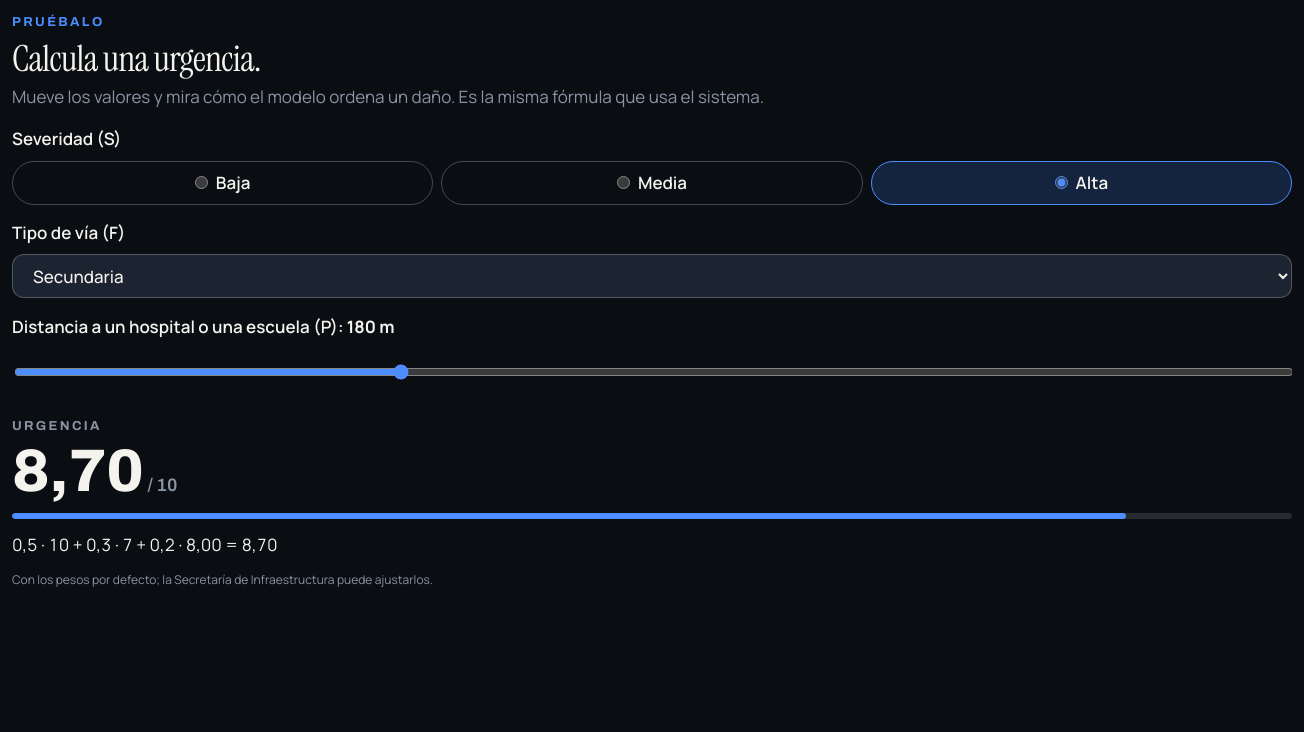
Test: Calculator › sin vía marca «Revisar vía»
This screenshot has width=1304, height=732.
Select "Sin vía a menos de 30 m" in the dropdown: (652, 276) [12, 254, 1292, 298]
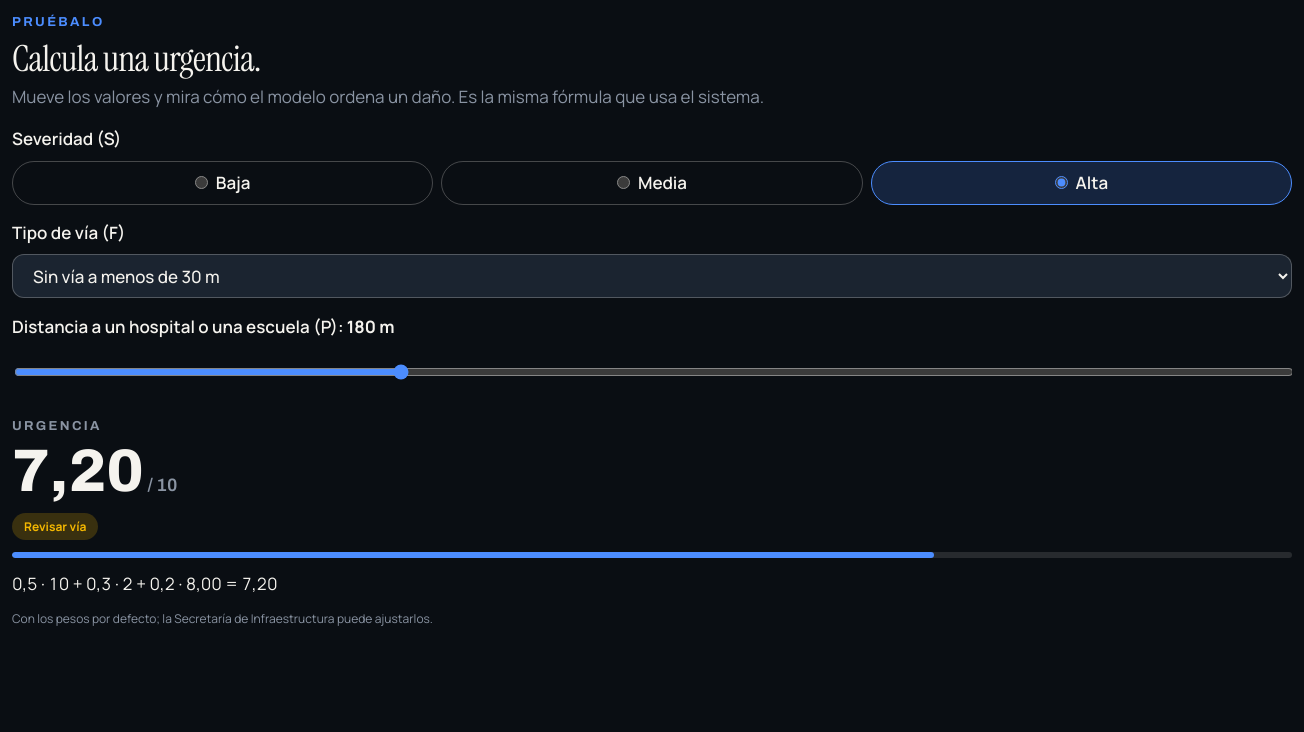
Check: the text "Revisar vía" is shown, box [12, 513, 98, 540]
